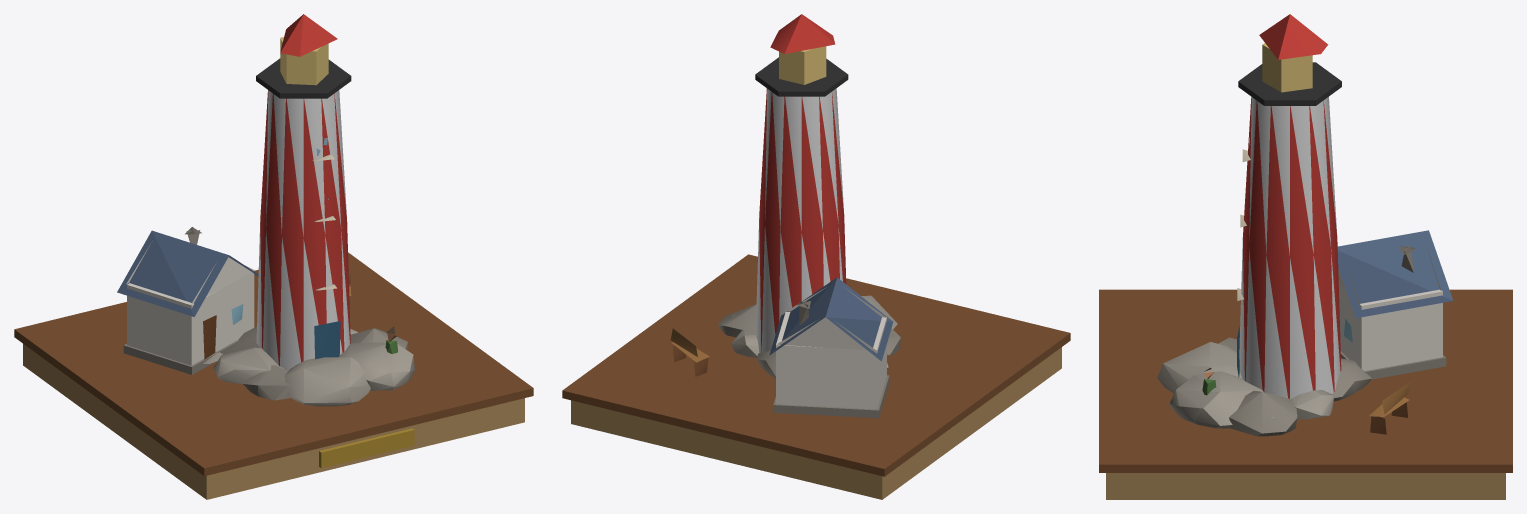
File: lighthouse_souvenir.glb
3 renders of one model, left to right at view 1: azimuth 30°, elevation 25°; view 2: azimuth 150°, elevation 25°; view 3: azimuth 270°, elevation 25°, orthographic. The views are drawn at different scales.
Visible parts, largest first — view 1: decor-lighthouse_souvenir; view 2: decor-lighthouse_souvenir; view 3: decor-lighthouse_souvenir.
Part boxes in pixels (left/top/right/bottom): decor-lighthouse_souvenir: left=14, top=14, right=533, bottom=499; decor-lighthouse_souvenir: left=562, top=14, right=1070, bottom=499; decor-lighthouse_souvenir: left=1099, top=14, right=1512, bottom=499.
Bounding box in the file's own units: 1.76 × 1.94 × 1.76.
